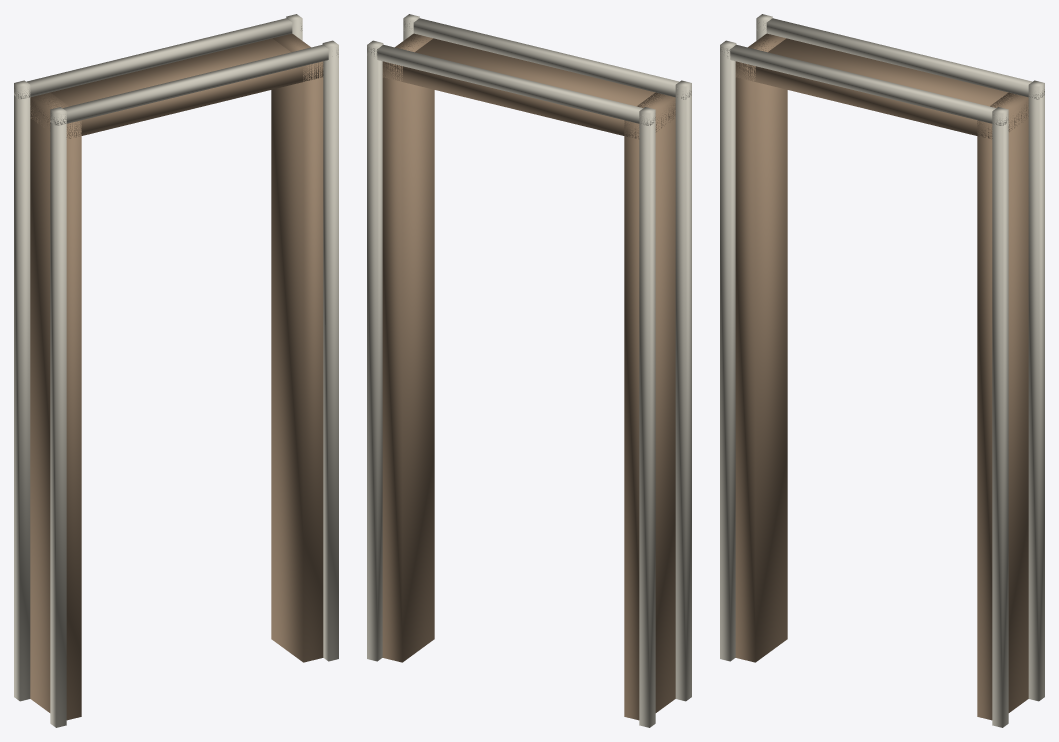
The model's file is doorway_painted_trim_w96_h240_d24.glb.
The picture shows the model from 3 angles, left to right: view 1: azimuth 30°, elevation 25°; view 2: azimuth 150°, elevation 25°; view 3: azimuth 330°, elevation 25°; orthographic projection.
Parts seen in each view (by area): view 1: world; view 2: world; view 3: world.
Boxes of the visible parts, bbox=[...] form: world: bbox=[14, 14, 338, 727]; world: bbox=[367, 14, 691, 727]; world: bbox=[720, 14, 1044, 727].
Bounding box in the file's own units: 1.22 × 2.54 × 0.3165.
